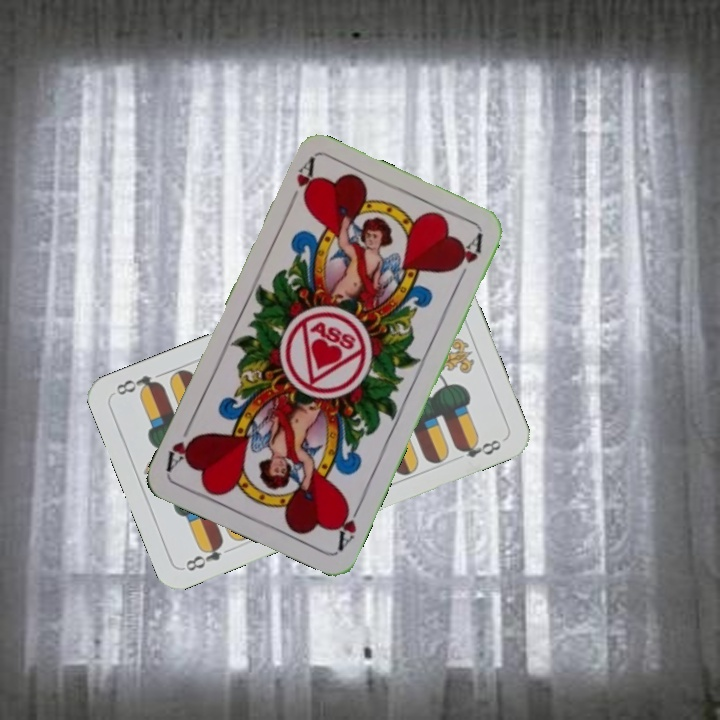E8: (181, 536, 226, 574)
HA: (332, 496, 366, 552), (284, 155, 317, 211)
